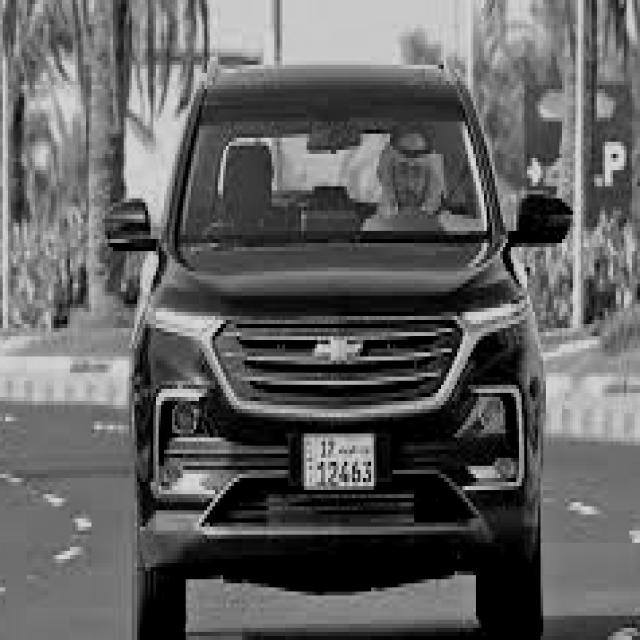licenseplate: (302, 431, 379, 488)
